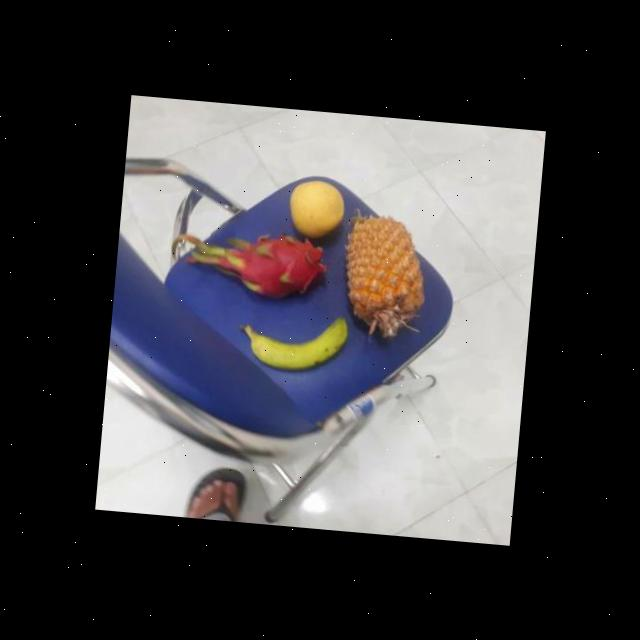banana: (244, 306, 347, 374)
pear: (284, 178, 348, 240)
pineapple: (334, 212, 428, 341)
pitaya: (216, 228, 324, 302)
